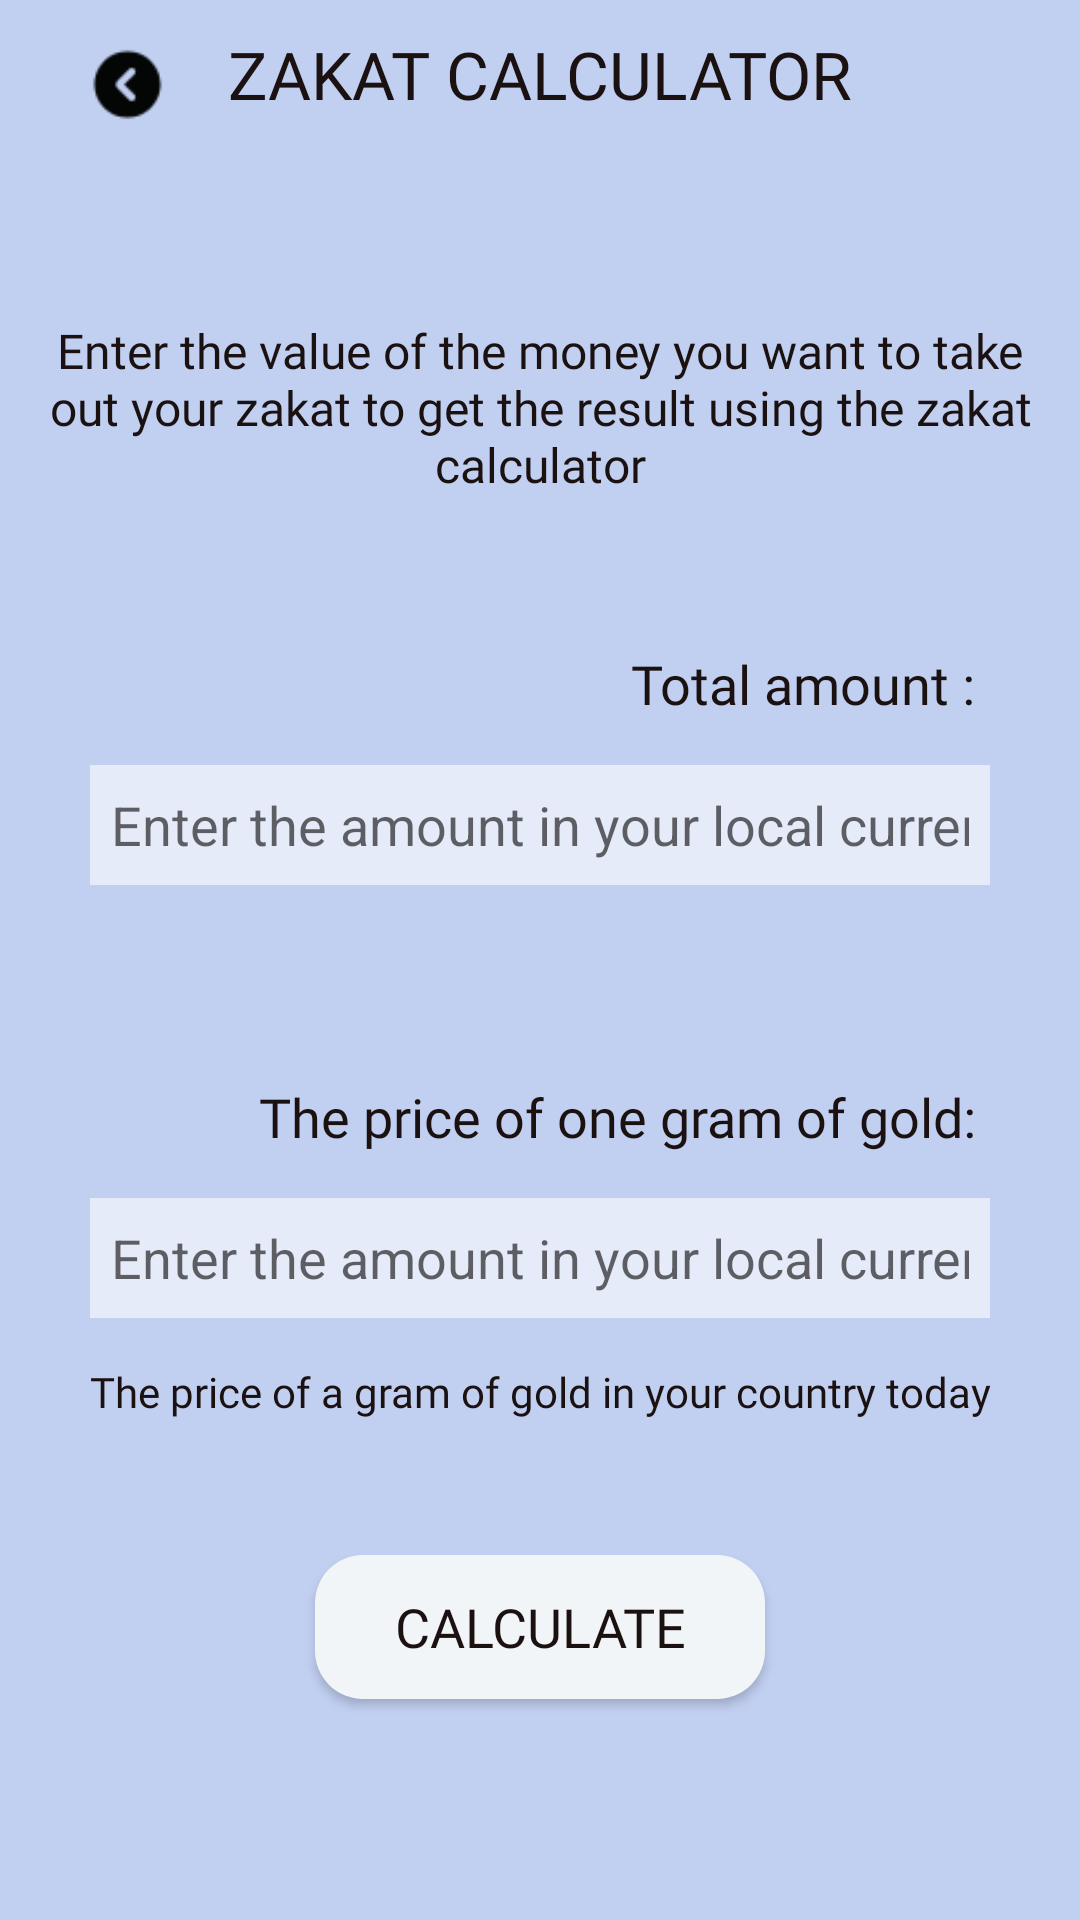

Screen size 1080*1920. Icon name, then its center in pixels as [x,y]:
backicon: [127,84]
